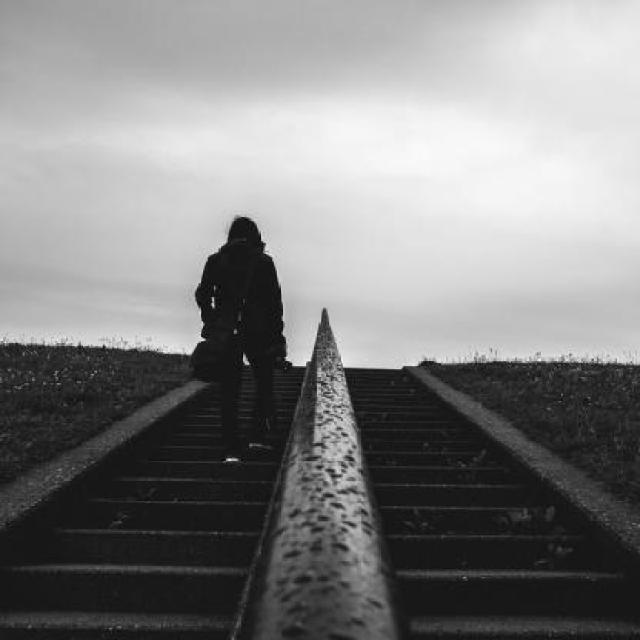stair: (3, 358, 314, 637), (351, 357, 637, 640)
